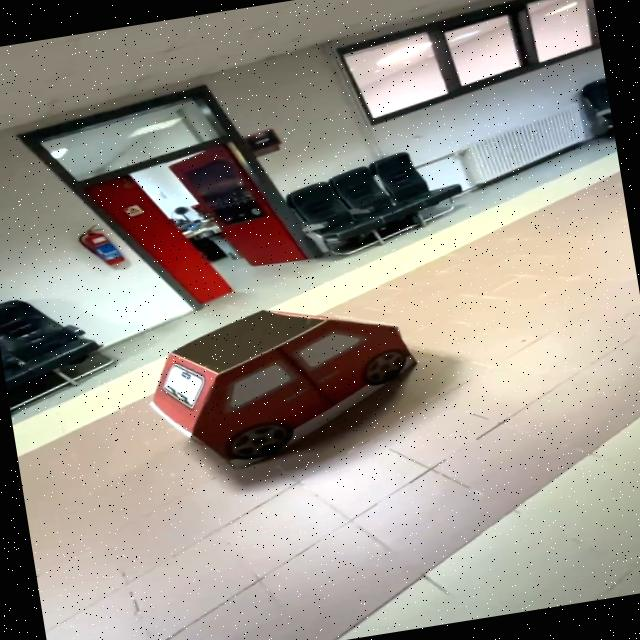red_car: (129, 274, 474, 488)
